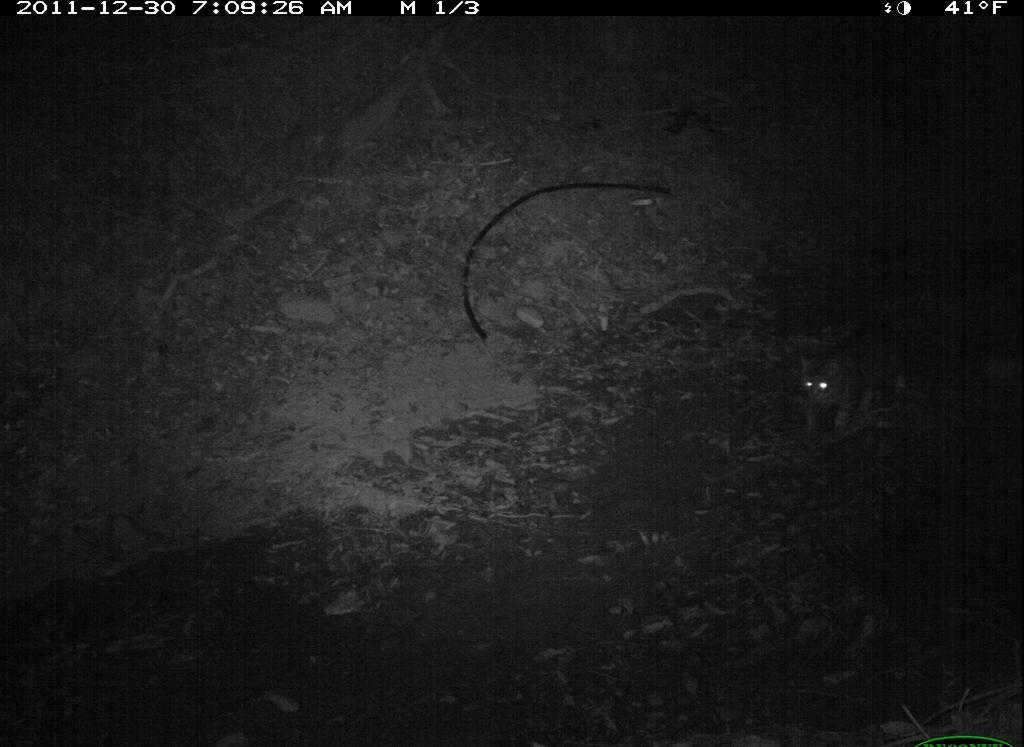cat: (785, 315, 914, 443)
